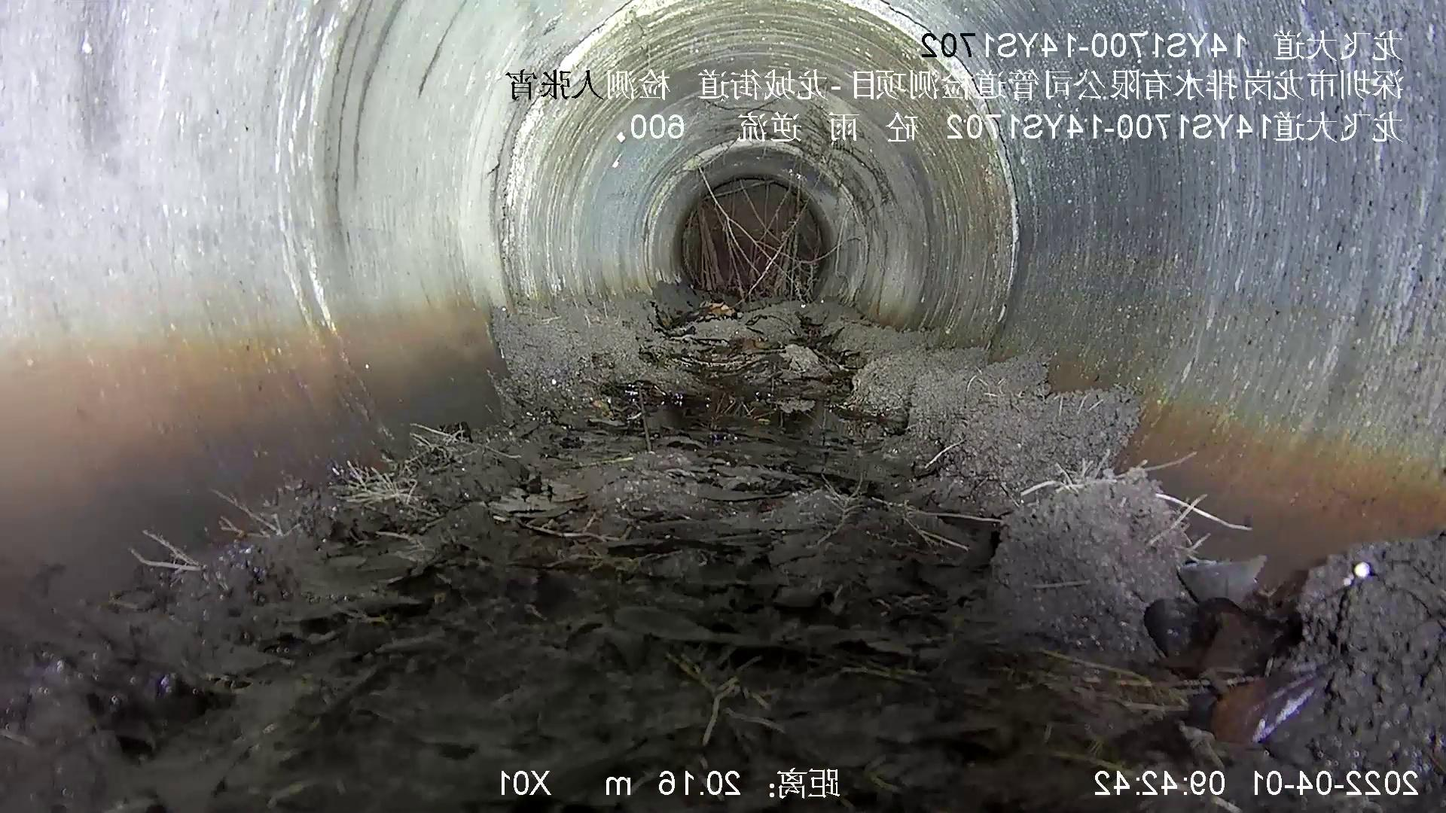CJ: (40, 299, 1446, 812)
CKTJ: (828, 0, 1029, 355), (484, 0, 692, 303)
SG: (630, 131, 894, 313)
